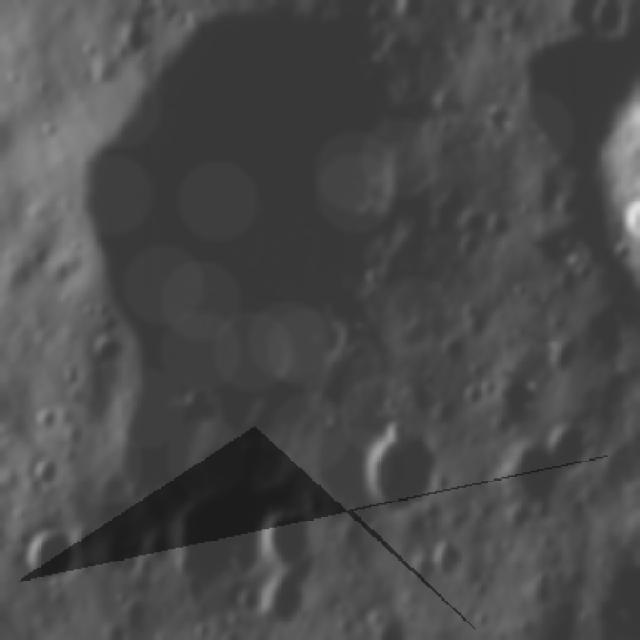crater: (93, 0, 457, 415), (108, 395, 214, 497), (363, 418, 449, 517), (255, 560, 328, 632), (264, 496, 324, 578), (19, 516, 81, 592), (494, 443, 555, 515), (548, 414, 600, 480), (542, 330, 586, 387), (582, 0, 636, 46), (433, 542, 475, 584), (88, 333, 128, 373), (361, 611, 414, 640), (112, 548, 150, 586), (27, 456, 64, 492), (231, 587, 266, 621), (464, 376, 498, 410), (454, 236, 486, 267), (32, 410, 59, 436)
